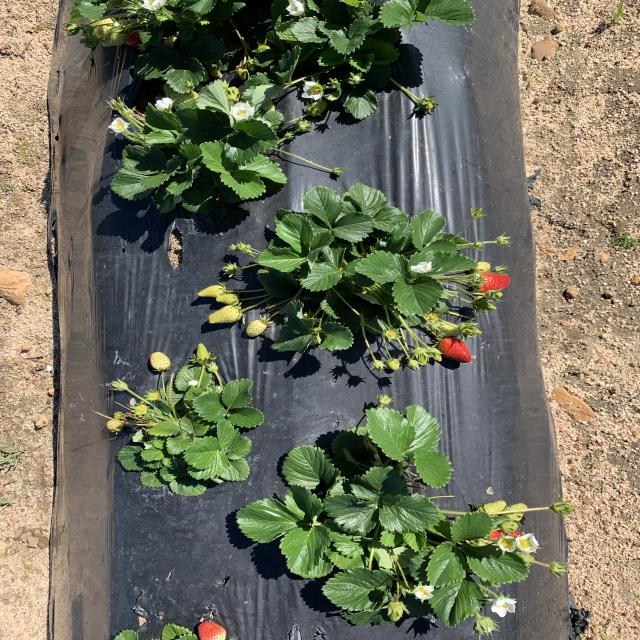unripe: (476, 526, 528, 551), (434, 336, 475, 364), (466, 272, 513, 294), (191, 619, 232, 640)
